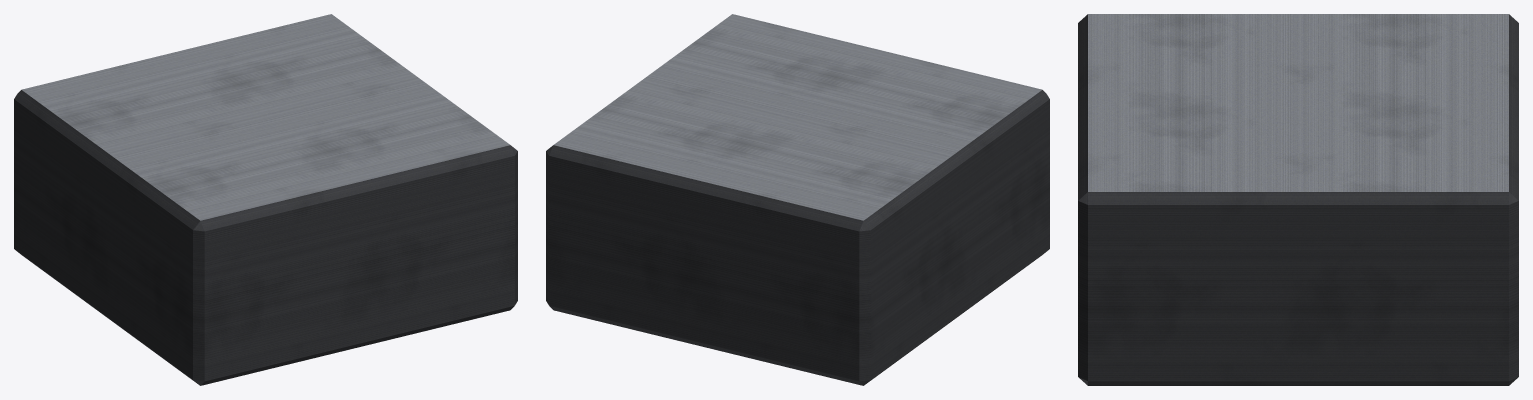
File: R4B_Slab2x2_LOD1.glb
The picture shows the model from 3 angles, left to right: view 1: azimuth 30°, elevation 25°; view 2: azimuth 150°, elevation 25°; view 3: azimuth 270°, elevation 25°; orthographic projection. The views are drawn at different scales.
Parts seen in each view (by area): view 1: R4B_Slab2x2_LOD1; view 2: R4B_Slab2x2_LOD1; view 3: R4B_Slab2x2_LOD1.
Boxes of the visible parts, <box> form: R4B_Slab2x2_LOD1: <box>14,14,517,385</box>; R4B_Slab2x2_LOD1: <box>546,14,1049,385</box>; R4B_Slab2x2_LOD1: <box>1078,14,1518,385</box>.
Size of the model in its own units: 1.07 by 0.52 by 1.07.
Materials: 2 (2 with a texture image).
